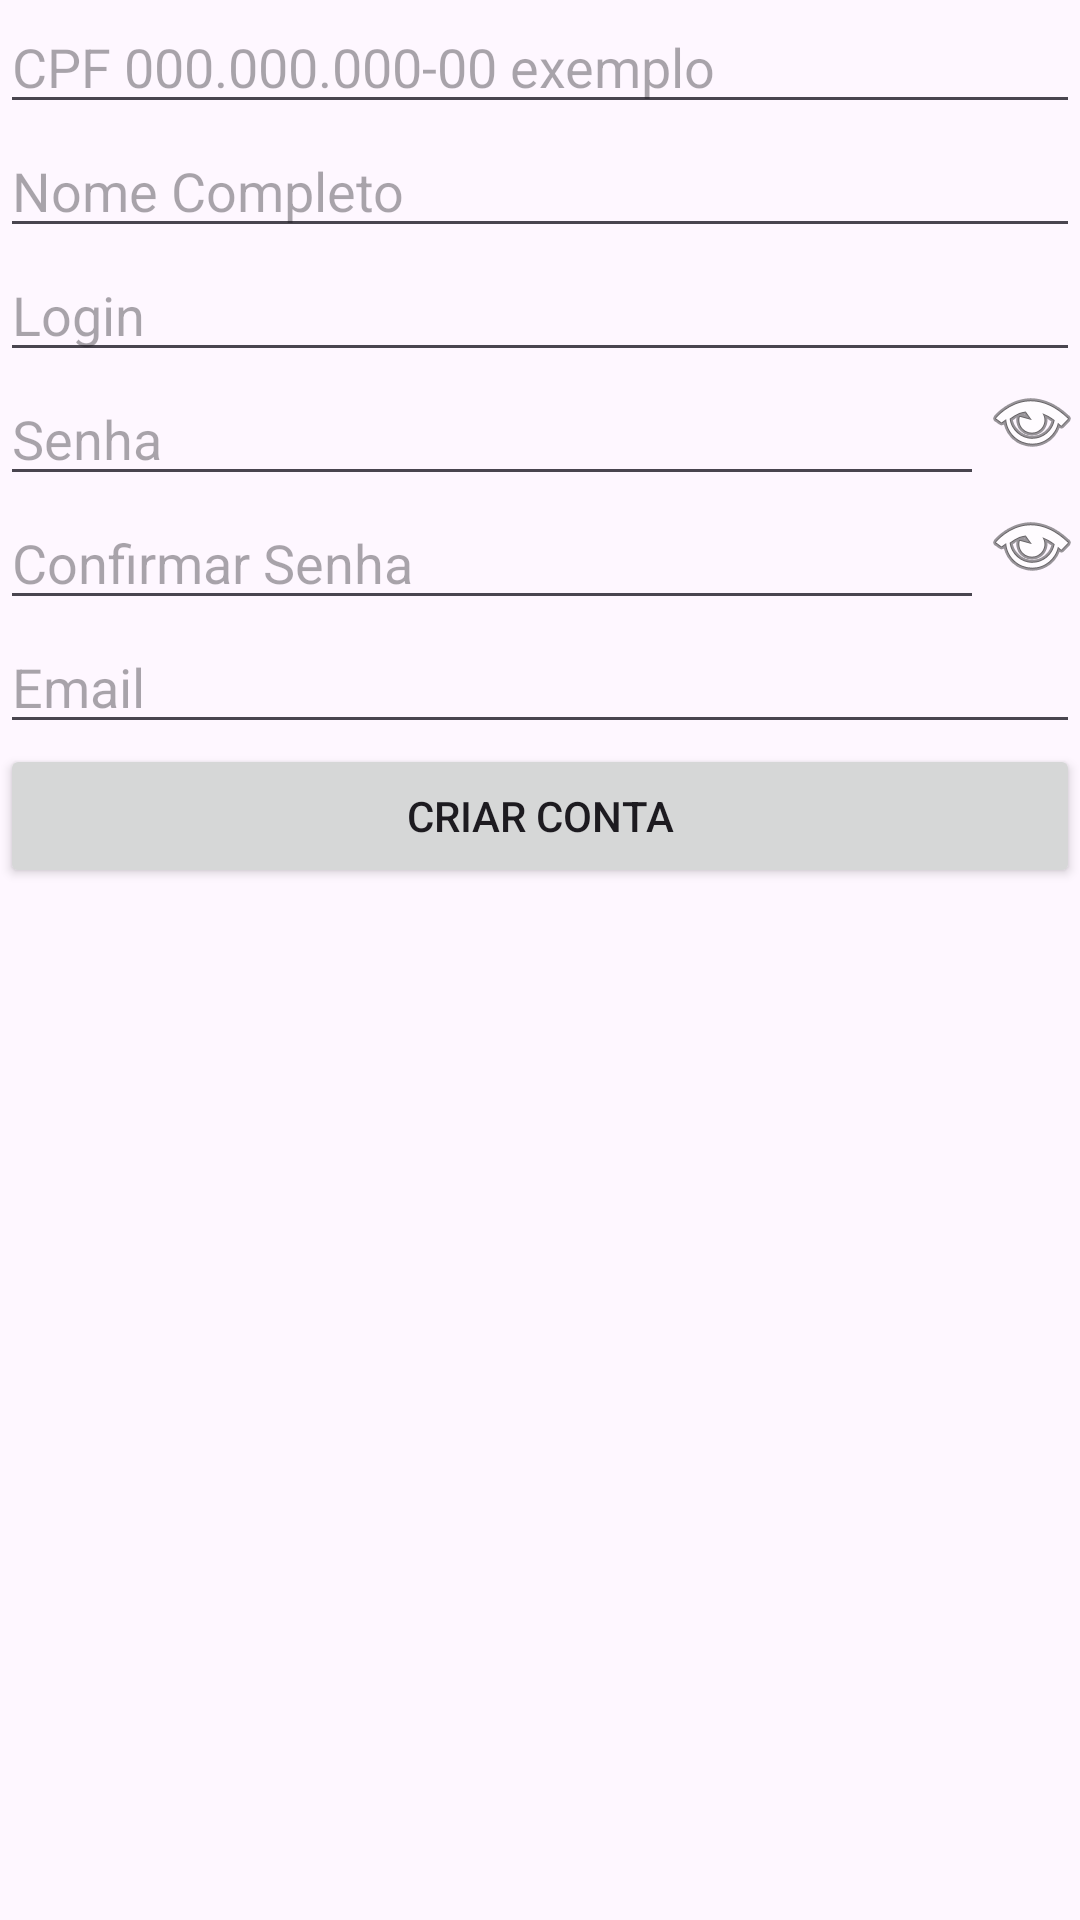

Named icons in this screenshot (1080x1920) and their centers, (x=x, y=y):
view: (x=1032, y=422), (x=1032, y=546)
